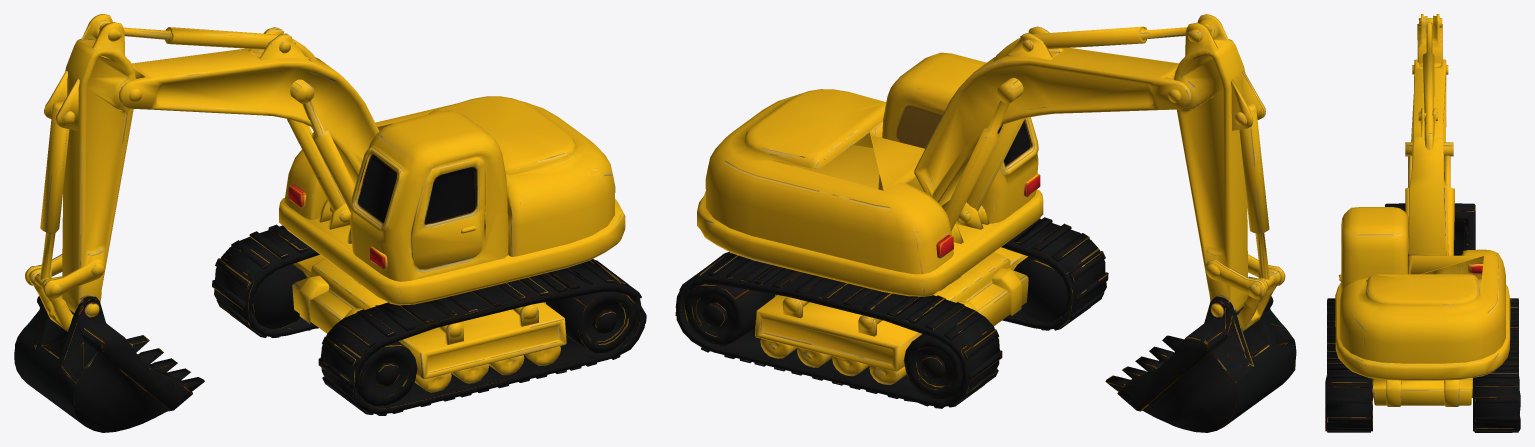
The model's file is veh-digger.glb.
The picture shows the model from 3 angles, left to right: view 1: azimuth 30°, elevation 25°; view 2: azimuth 150°, elevation 25°; view 3: azimuth 270°, elevation 25°; orthographic projection. The views are drawn at different scales.
Size of the model in its own units: 1.48 by 1 by 0.6532.
1 material, 1 textured.
